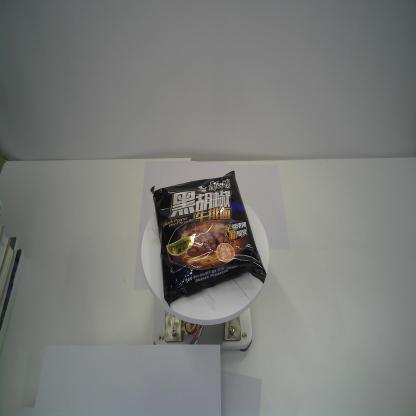Instant Noodles: (150, 168, 267, 309)
